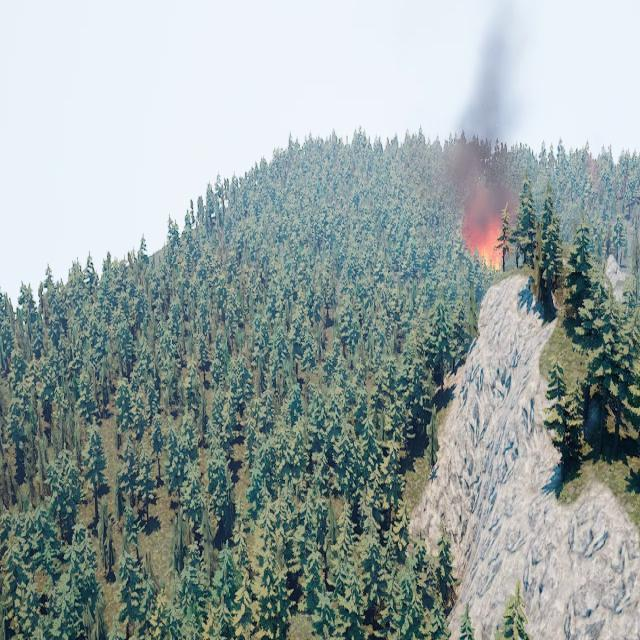fire: (471, 219, 504, 272)
smoke: (440, 2, 535, 252)
